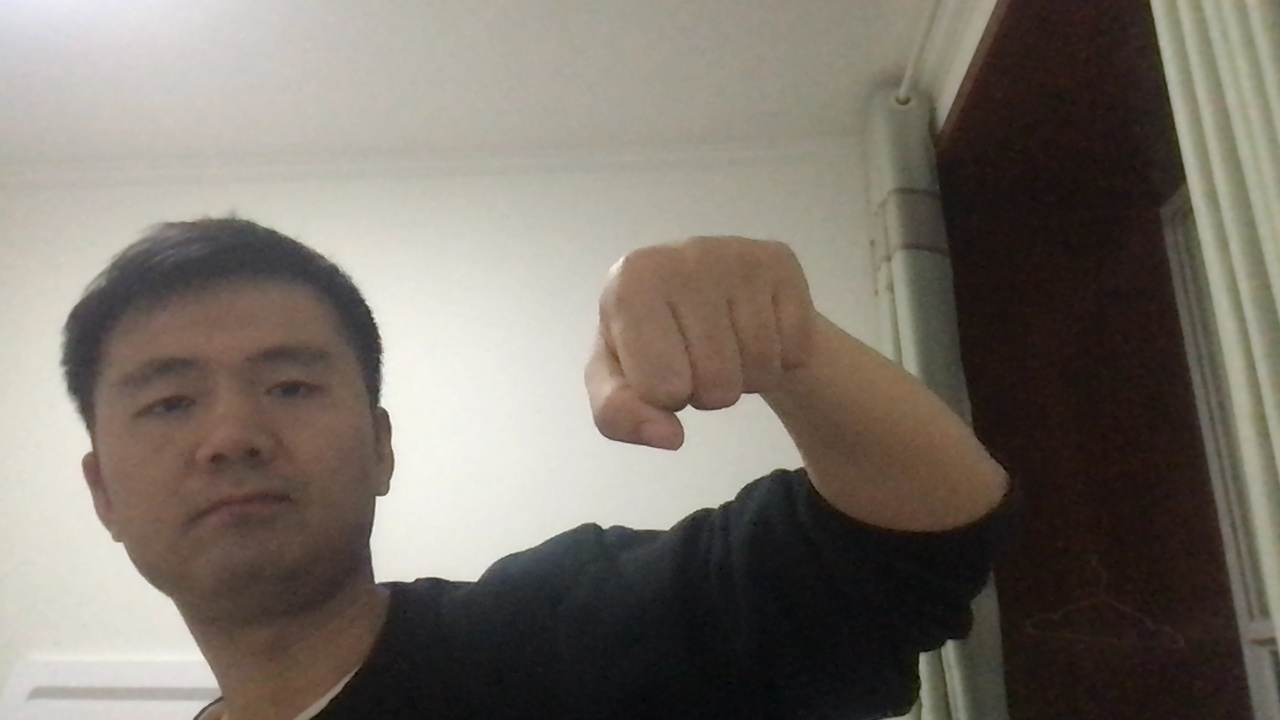ok: (557, 226, 881, 454)
